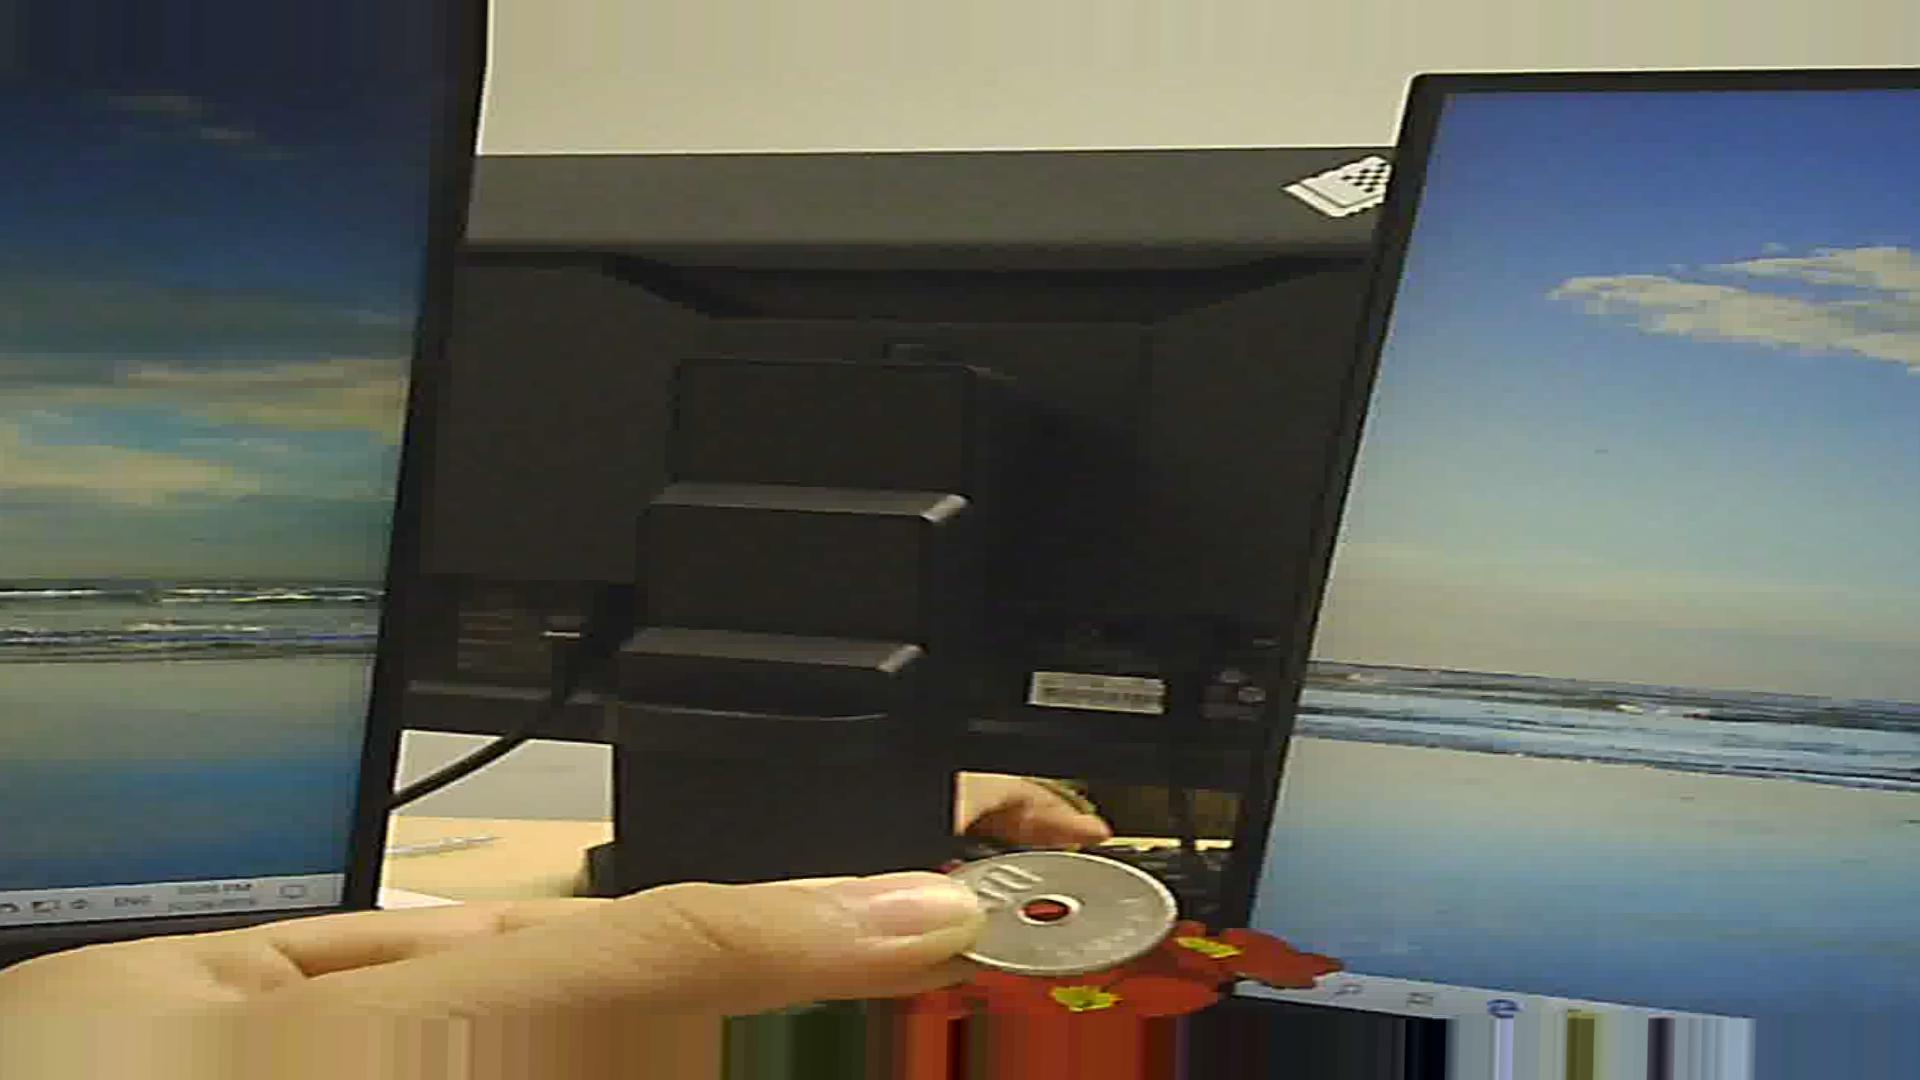50 Yen: (934, 837, 1168, 976)
